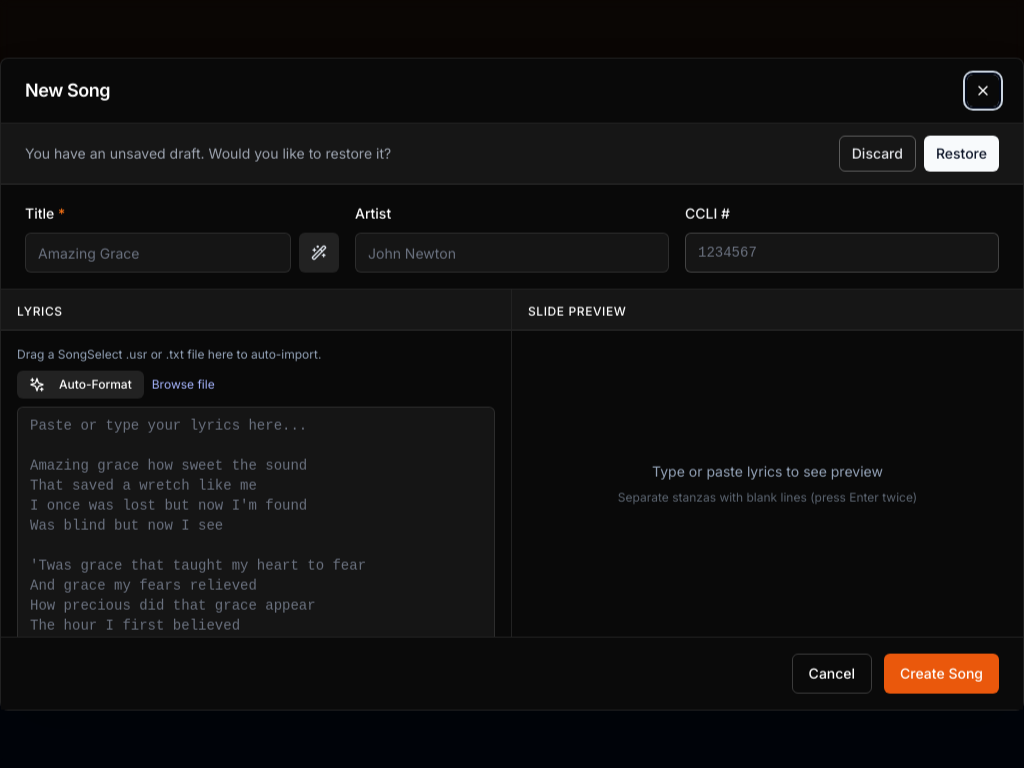
Test: SongEditorModal › Draft Functionality › should restore draft when restore button is clicked
What coordinates should you click on to do the following:
click the button "Restore"
I would click on:
 (961, 154)
Its box is [924,136,999,172].
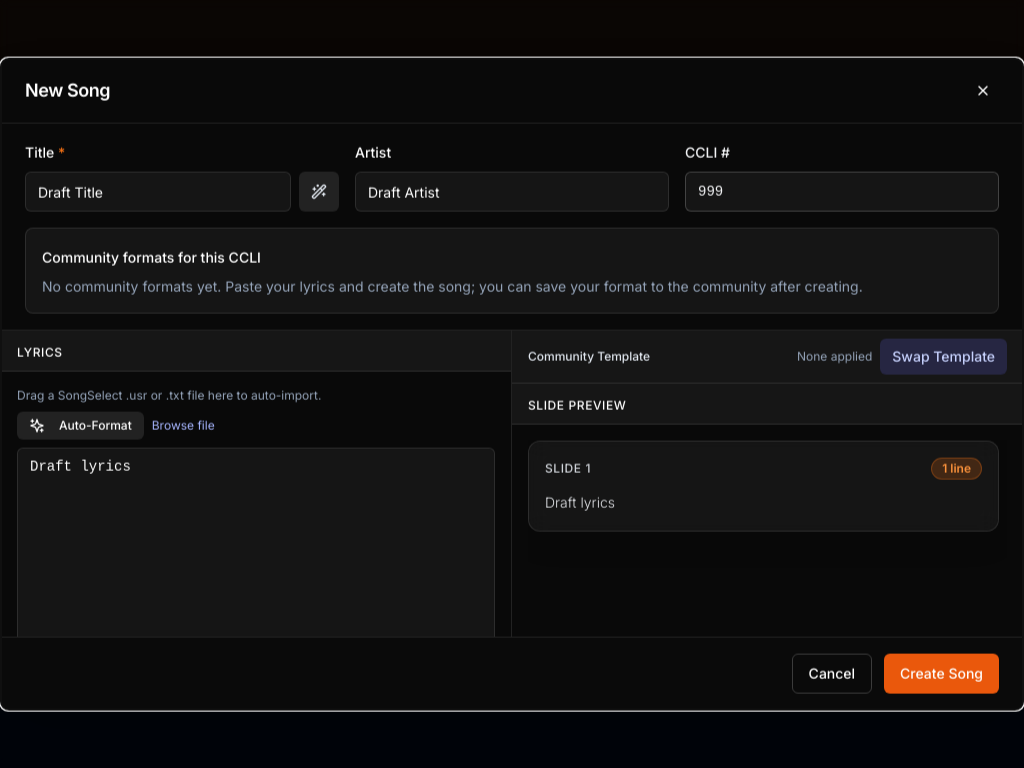
Expected: the field showing "Draft Title" is shown, [25,172,291,212]
Expected: the field showing "Draft Artist" is shown, [355,172,669,212]
Expected: the field showing "999" is shown, [685,172,999,212]
